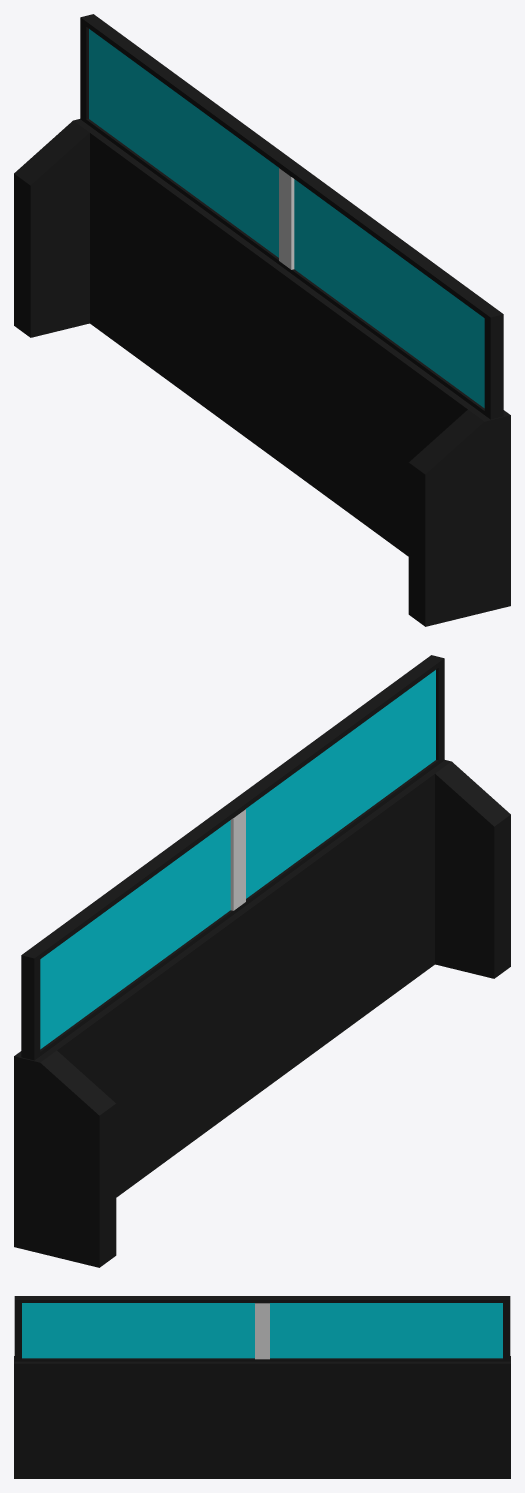
Rendered from GlassBarrier.fbx.
3 views of the same model, one above another, from view 1: azimuth 30°, elevation 25°; view 2: azimuth 150°, elevation 25°; view 3: azimuth 270°, elevation 25° (orthographic). The views are drawn at different scales.
Visible parts, largest first — view 1: Base, Glass; view 2: Base, Glass; view 3: Base, Glass.
Part boxes in pixels (left/top/right/bottom): Base: left=14, top=119, right=510, bottom=626; Glass: left=80, top=14, right=503, bottom=419; Base: left=14, top=760, right=510, bottom=1267; Glass: left=21, top=655, right=444, bottom=1060; Base: left=14, top=1356, right=510, bottom=1478; Glass: left=14, top=1296, right=510, bottom=1361.
Size of the model in its own units: 289 by 946 by 2408.
